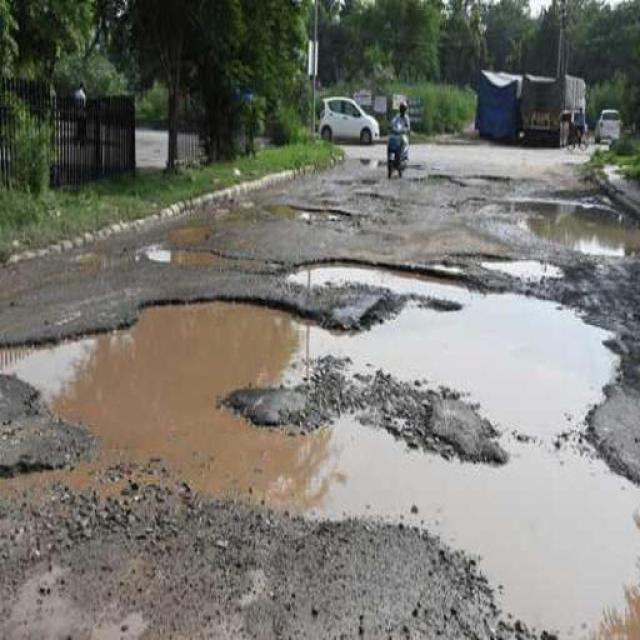puddle: (435, 460, 640, 634), (402, 283, 597, 423), (115, 306, 259, 488), (226, 420, 441, 514)
